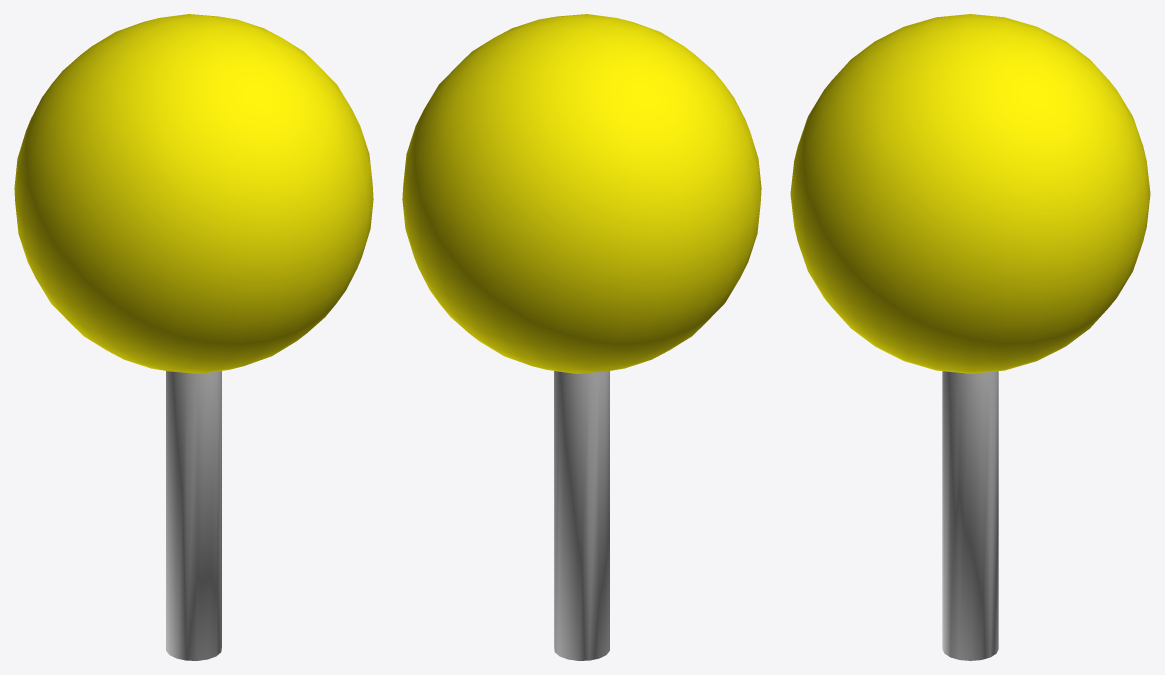
File: yellow.glb
3 views of the same model, side by side, from view 1: azimuth 30°, elevation 25°; view 2: azimuth 150°, elevation 25°; view 3: azimuth 270°, elevation 25° (orthographic).
Parts seen in each view (by area): view 1: Yellow; view 2: Yellow; view 3: Yellow.
Boxes of the visible parts, <box> form: Yellow: <box>14,14,373,660</box>; Yellow: <box>402,14,761,660</box>; Yellow: <box>790,14,1150,660</box>.
Bounding box in the file's own units: 0.3764 × 0.7133 × 0.3764.
